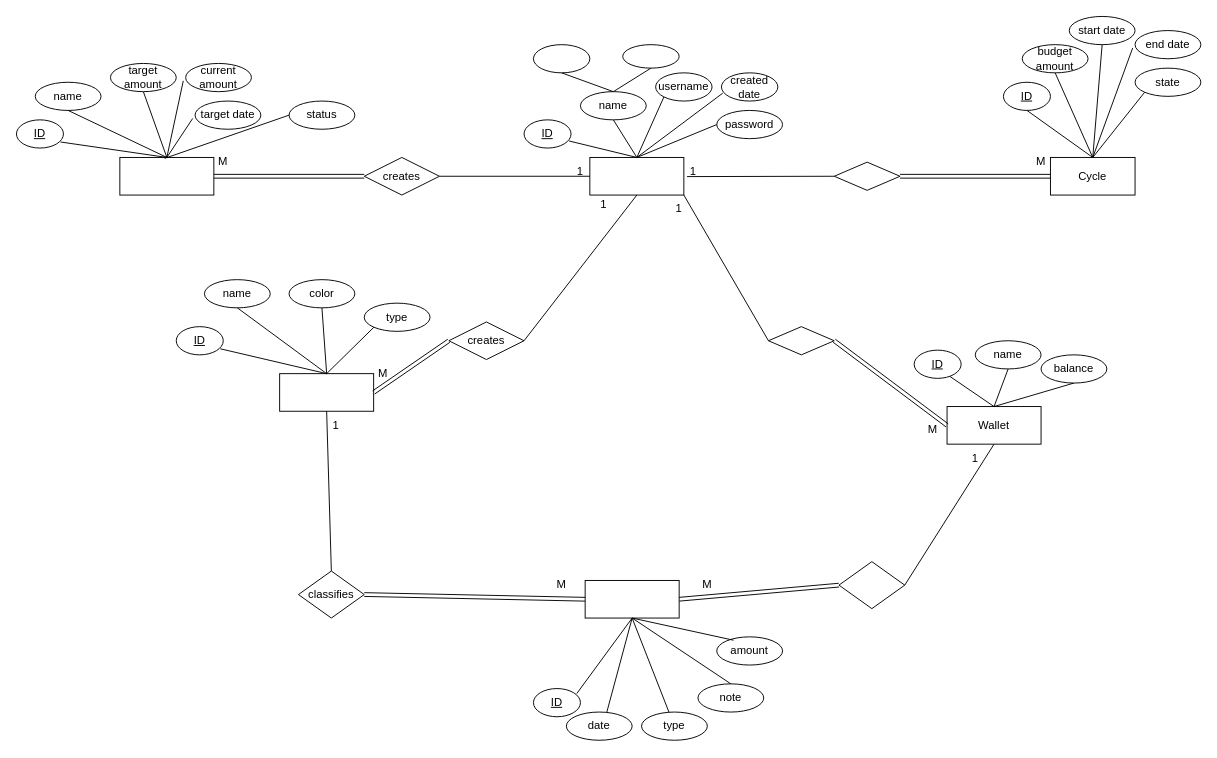
This 1217x758 diagram has some shape labels left out. The shapes that lost their labels are listed below. From the top down, each one's centre as x and y in pixels, then its label:
point (561, 58): first name
point (650, 56): last name
point (166, 176): Saving Goal
point (636, 176): System User
point (866, 175): defines
point (801, 340): owns
point (326, 392): Category
point (631, 599): Transiaction
point (871, 585): records
